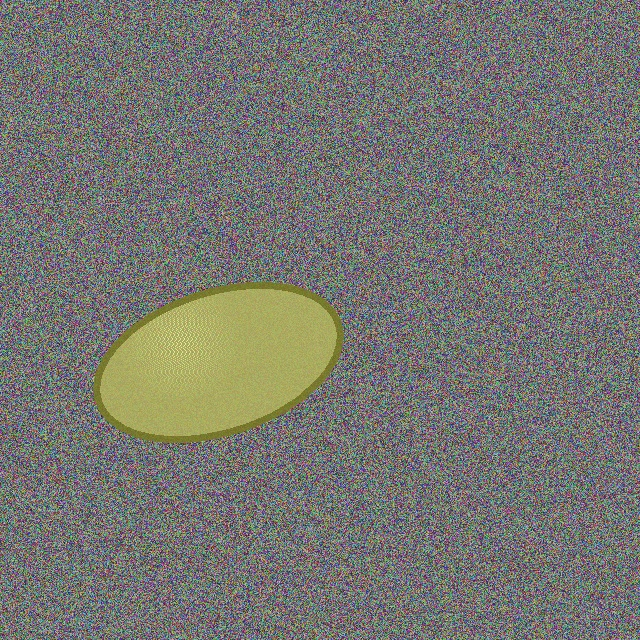lens: (97, 285, 339, 439)
